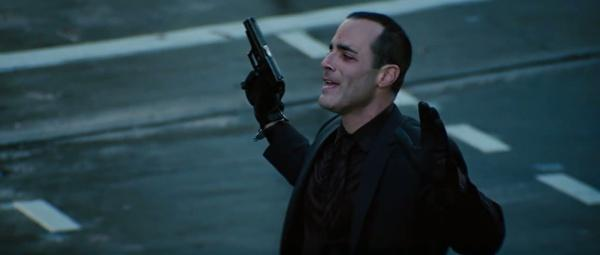Gun: (242, 16, 283, 90)
